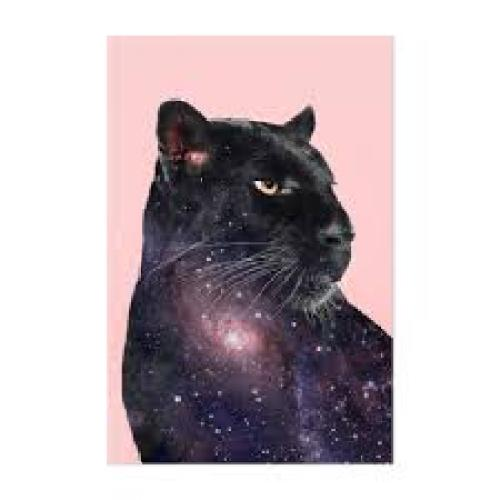panther-endangered: (124, 97, 394, 462)
